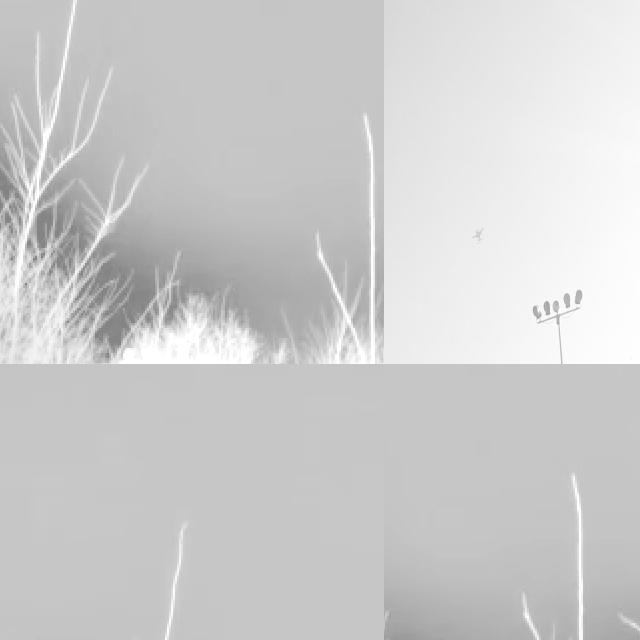drone: (469, 222, 486, 248)
